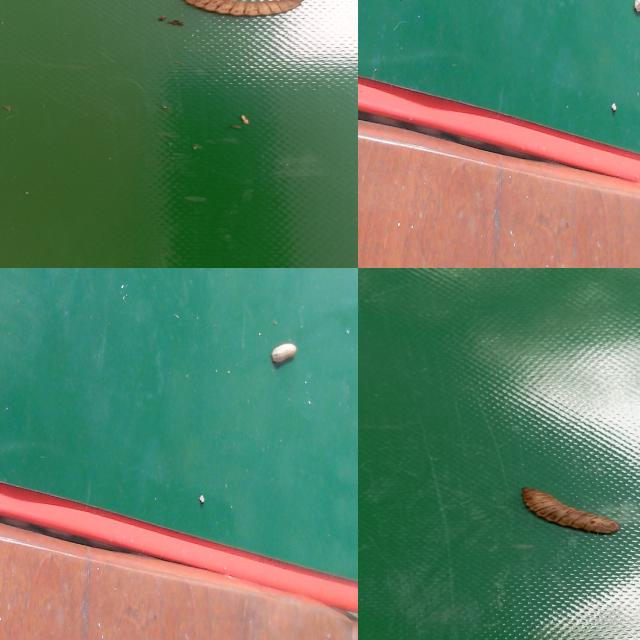Maggot: (521, 488, 621, 537), (181, 0, 303, 20), (271, 341, 299, 369)
